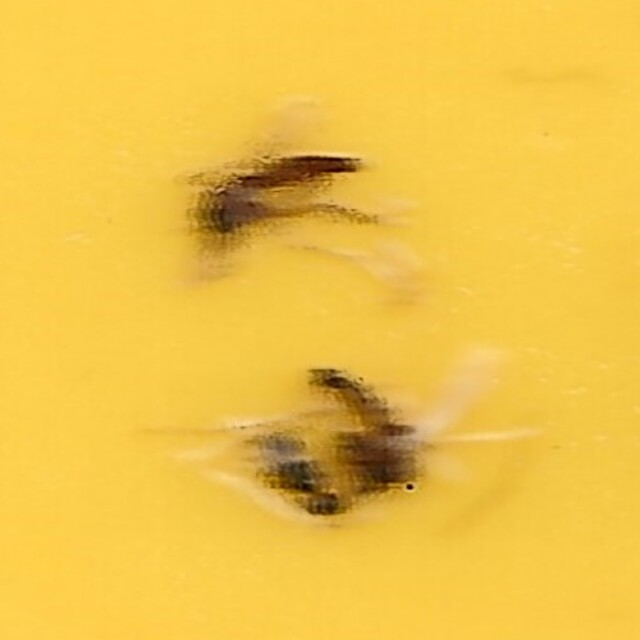Nematocera: (303, 355, 452, 500), (188, 140, 380, 248)
